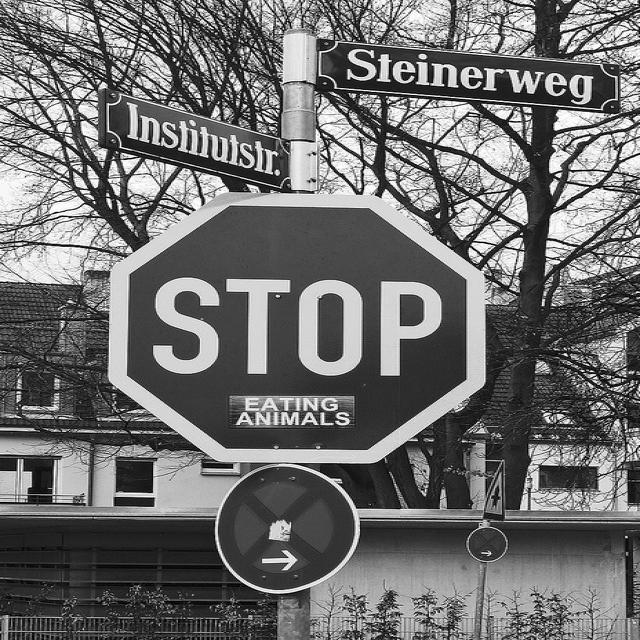pole: (258, 23, 343, 636), (466, 521, 494, 639)
